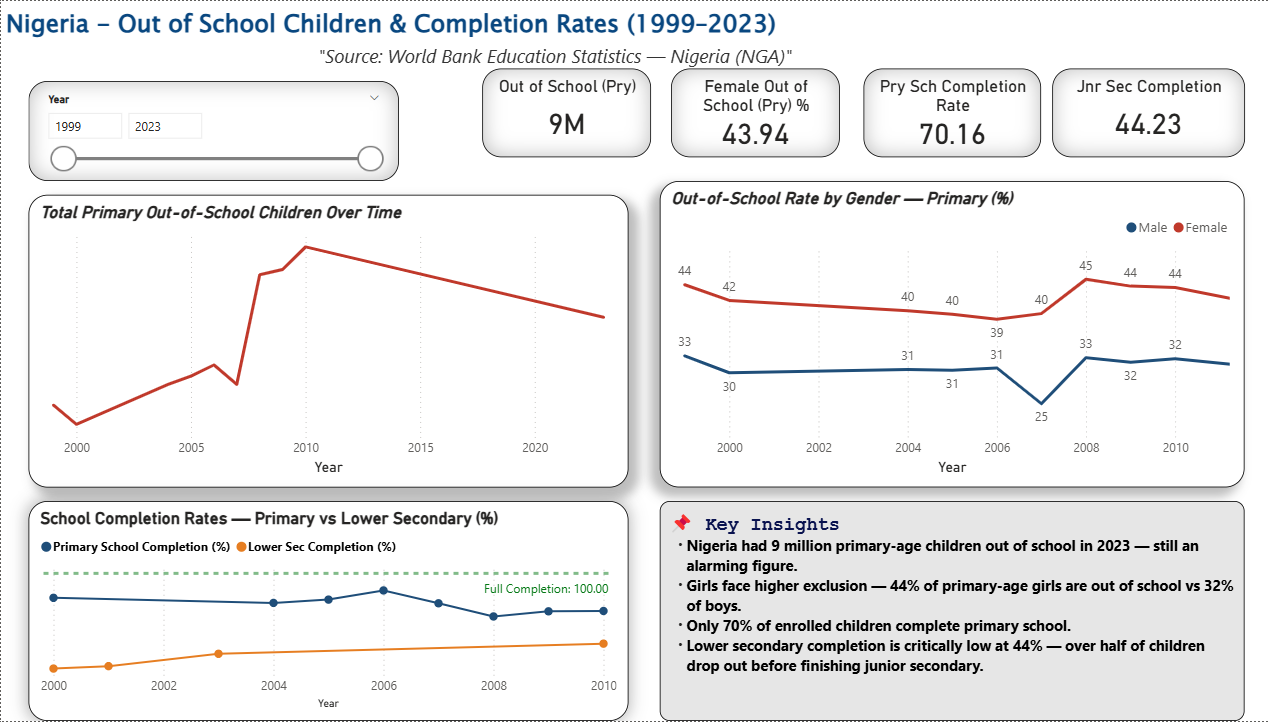

The page's visual inventory and layout, read from the dashboard file:
{"tool":"powerbi","page":{"name":"Out of School & Completion Analysis","canvas":[1280,720],"ordinal":2},"visuals":[{"type":"textbox","box":[0,0,796.1,79.5],"z":0},{"type":"card","title":"Out of School (Pry)","fields":{"Values":["PowerBI_Data.Latest OOS Primary"]},"box":[481.2,67.5,168.8,88.8],"z":1000},{"type":"card","title":"Female Out of School (Pry) %","fields":{"Values":["PowerBI_Data.Latest OOS Female (%)"]},"box":[670,67.5,168.8,88.8],"z":2000},{"type":"card","title":"Jnr Sec Completion","fields":{"Values":["PowerBI_Data.Latest Lower Sec Completion"]},"box":[1051.2,67.5,192.5,88.8],"z":3000},{"type":"card","title":"Pry Sch Completion Rate","fields":{"Values":["PowerBI_Data.Latest Primary Completion"]},"box":[862.5,67.5,177.5,88.8],"z":4000},{"type":"lineChart","title":"Total Primary Out-of-School Children Over Time","fields":{"Y":["Sum(PowerBI_Data.Out of Schl (Pry))"],"Category":["PowerBI_Data.Year"]},"box":[27.5,193.8,600,292.5],"z":5000},{"type":"lineChart","title":"Out-of-School Rate by Gender — Primary (%)","fields":{"Category":["PowerBI_Data.Year"],"Y":["Sum(PowerBI_Data.Out of Schl (Pry) Male (%))","Sum(PowerBI_Data.Out of Schl (Pry) Female (%))"]},"box":[658.8,180,585,306.2],"z":6000},{"type":"lineChart","title":"School Completion Rates — Primary vs Lower Secondary (%)","fields":{"Category":["PowerBI_Data.Year"],"Y":["Sum(PowerBI_Data.Primary School Completion (%))","Sum(PowerBI_Data.Lower Sec Completion (%))"]},"box":[27.5,500,600,220],"z":7000},{"type":"slicer","fields":{"Values":["PowerBI_Data.Year"]},"box":[27.5,80,370,100],"z":8000},{"type":"textbox","box":[658.8,500,585,220],"z":9000}]}

Visuals, with their boxes in screenshot pixels (x1, y1, x2, y2), scaled from the page's 1280x720 canvas onto the 1268x722 screenshot:
textbox: x1=0, y1=0, x2=789, y2=80
"Out of School (Pry)" card: x1=477, y1=68, x2=644, y2=157
"Female Out of School (Pry) %" card: x1=664, y1=68, x2=831, y2=157
"Jnr Sec Completion" card: x1=1041, y1=68, x2=1232, y2=157
"Pry Sch Completion Rate" card: x1=854, y1=68, x2=1030, y2=157
"Total Primary Out-of-School Children Over Time" lineChart: x1=27, y1=194, x2=622, y2=488
"Out-of-School Rate by Gender — Primary (%)" lineChart: x1=653, y1=180, x2=1232, y2=488
"School Completion Rates — Primary vs Lower Secondary (%)" lineChart: x1=27, y1=501, x2=622, y2=721
slicer - PowerBI_Data.Year: x1=27, y1=80, x2=394, y2=180
textbox: x1=653, y1=501, x2=1232, y2=721
